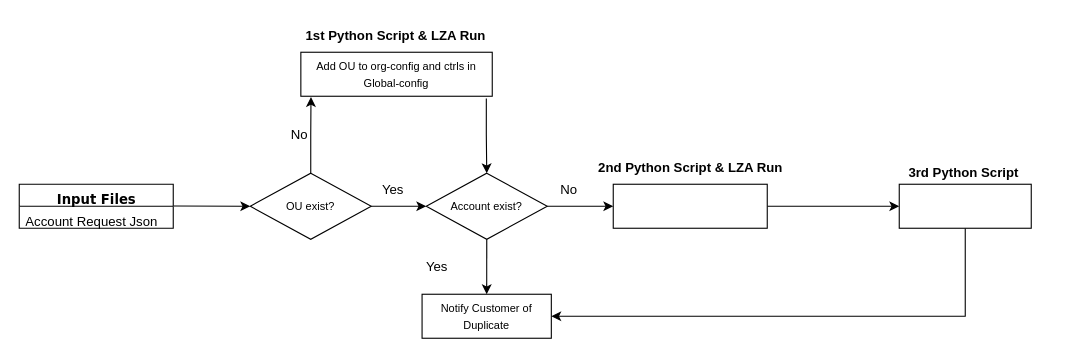
The diagram is 1080 pixels wide and 358 high, and some of its shapes have lost their labels. The centre of each missing label's shape, as x and y in pixels:
"Add Account & Budget in Global-config" goes at [689,205].
"Adding AD Group & Tagging" goes at [964,205].
